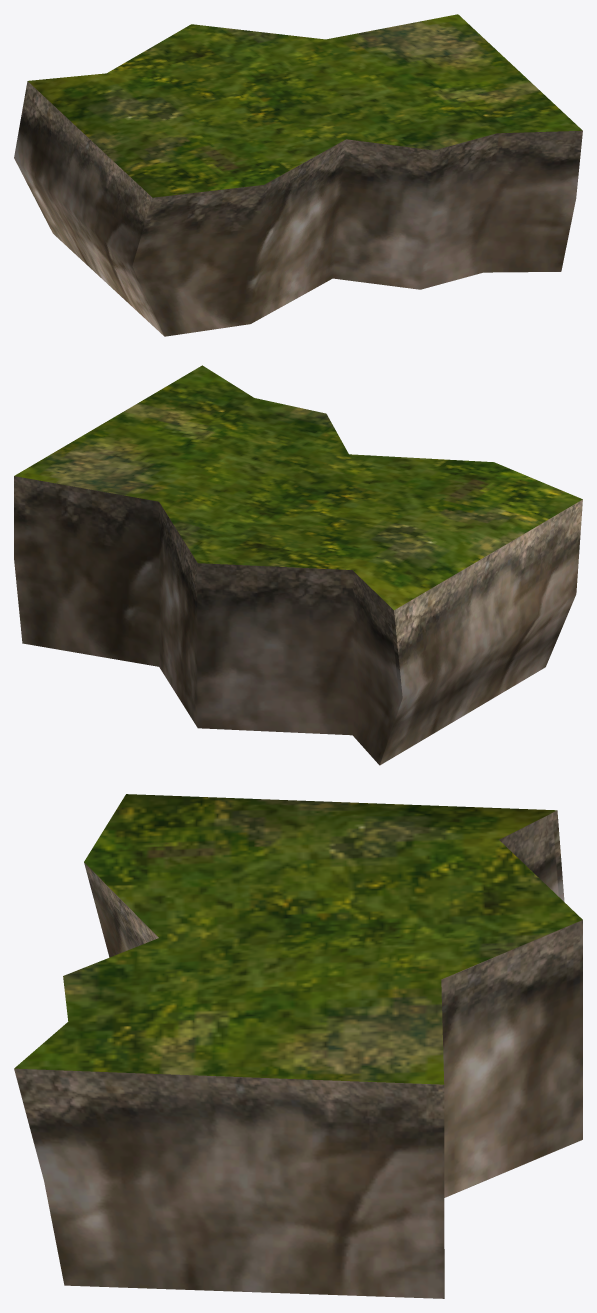
File: ANIMATEDINSTANCES_BAT_ROCKFALL_03__BA.fbx
3 renders of one model, top to bottom at view 1: azimuth 30°, elevation 25°; view 2: azimuth 150°, elevation 25°; view 3: azimuth 270°, elevation 25°, orthographic. The views are drawn at different scales.
Visible parts, largest first — view 1: ANIMATEDINSTANCES_BAT_ROCKFALL_03__BA; view 2: ANIMATEDINSTANCES_BAT_ROCKFALL_03__BA; view 3: ANIMATEDINSTANCES_BAT_ROCKFALL_03__BA.
Boxes of the visible parts, x1,y1,x2,y2 form: ANIMATEDINSTANCES_BAT_ROCKFALL_03__BA: (14, 14, 582, 336); ANIMATEDINSTANCES_BAT_ROCKFALL_03__BA: (14, 365, 582, 765); ANIMATEDINSTANCES_BAT_ROCKFALL_03__BA: (14, 794, 582, 1298).
Size of the model in its own units: 12456 by 4554 by 10086.
Materials: 3 (3 with a texture image).
